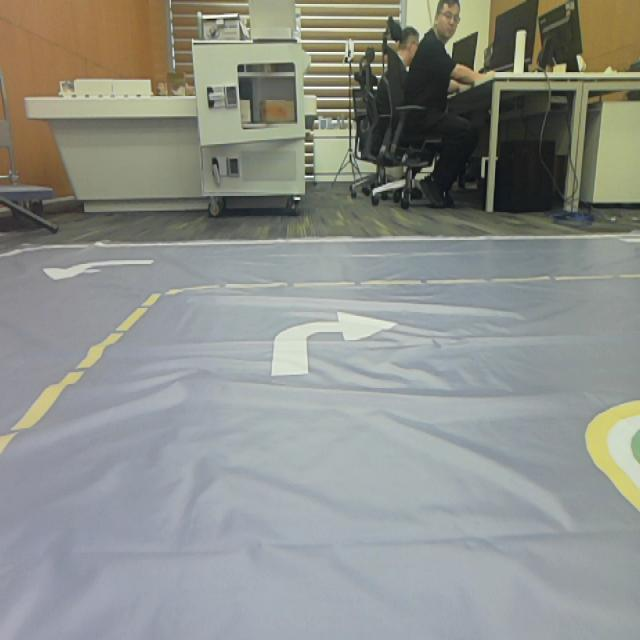left_lane: (0, 293, 159, 458)
right_lane: (585, 442, 640, 510)
